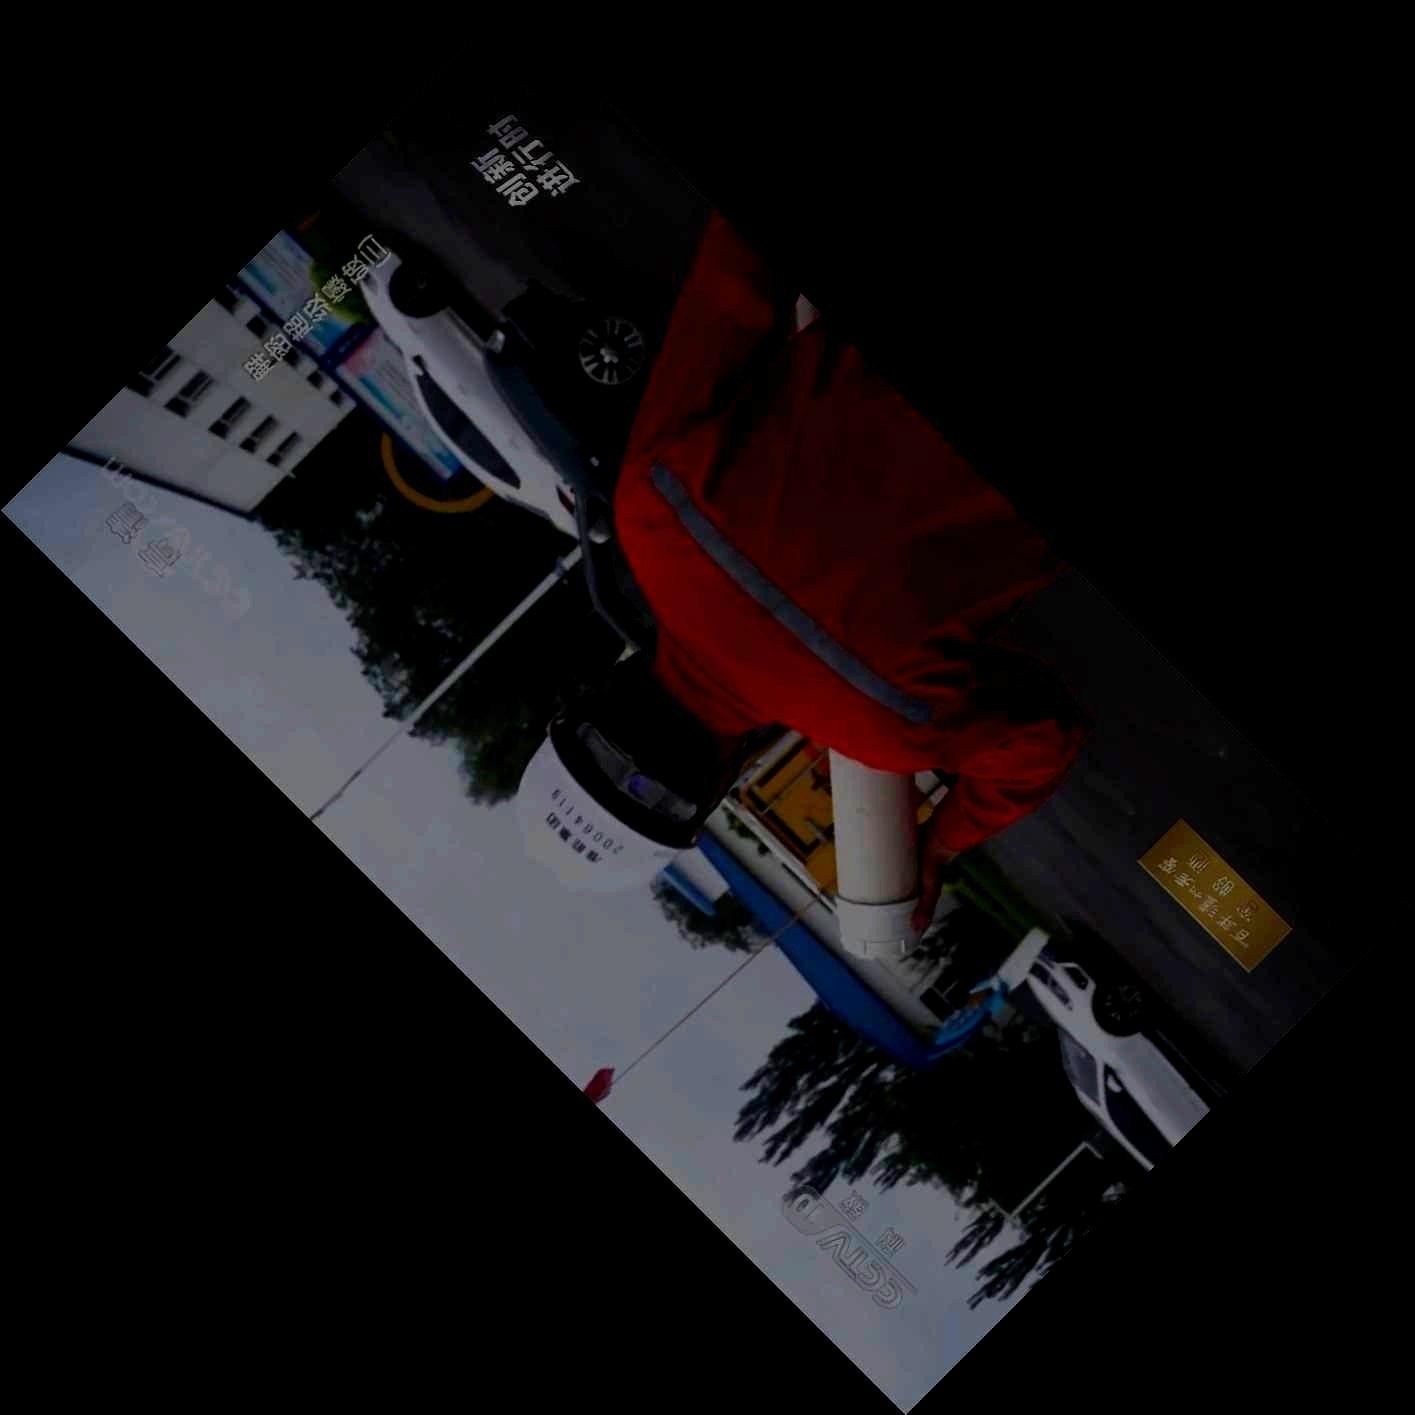helmet: (516, 650, 742, 897)
